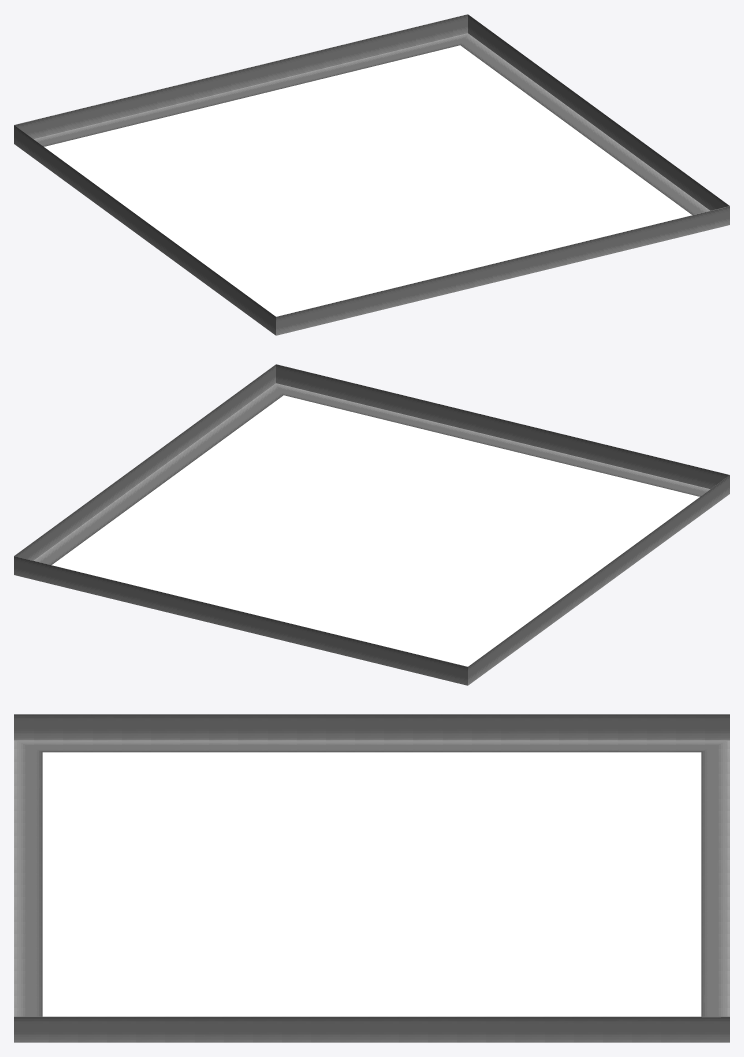
File: CeilingLight.glb
3 views of the same model, one above another, from view 1: azimuth 30°, elevation 25°; view 2: azimuth 150°, elevation 25°; view 3: azimuth 270°, elevation 25° (orthographic). The views are drawn at different scales.
Parts seen in each view (by area): view 1: light; view 2: light; view 3: light.
Part boxes in pixels (box(x1,y1,x2,y2)): light: box(14, 14, 729, 335); light: box(14, 364, 729, 685); light: box(14, 714, 729, 1042).
Size of the model in its own units: 0.5 by 0.02 by 0.5.
2 materials, 1 textured.
